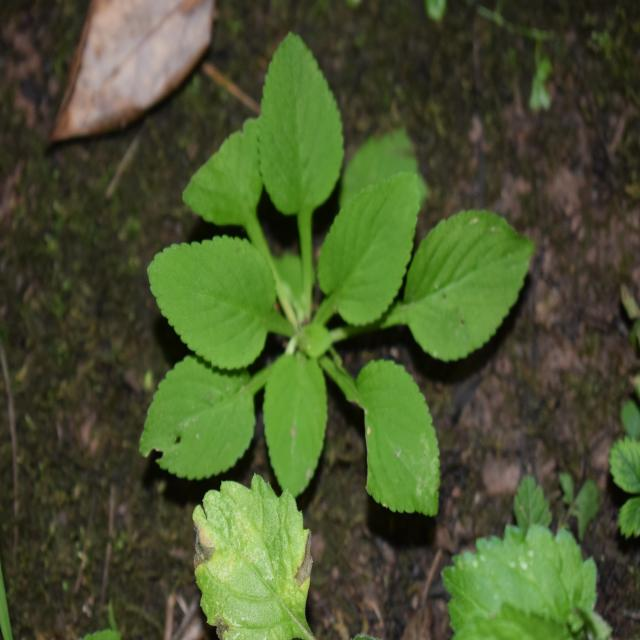Viola: (148, 58, 482, 505)
